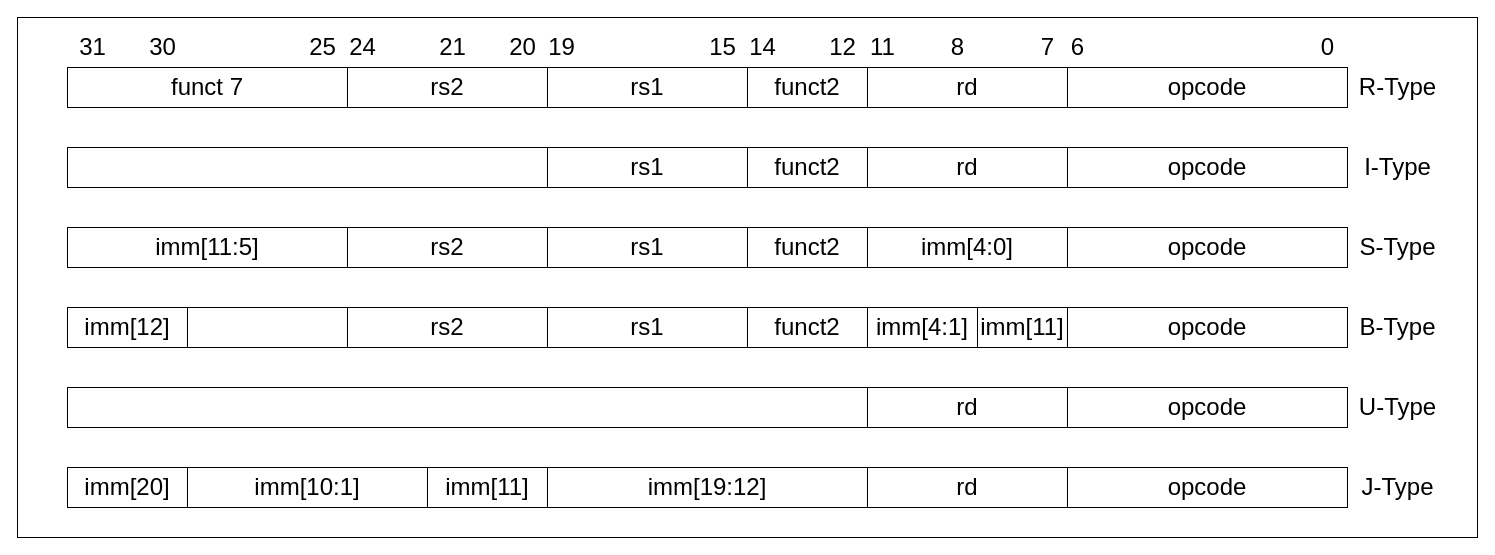
This 1495x555 diagram has some shape labels left out. Each missing label, with the centre of its shape:
"imm[10:5]" goes at (267,327).
"imm[11:0]" goes at (307,167).
"imm[31:12]" goes at (467,407).
